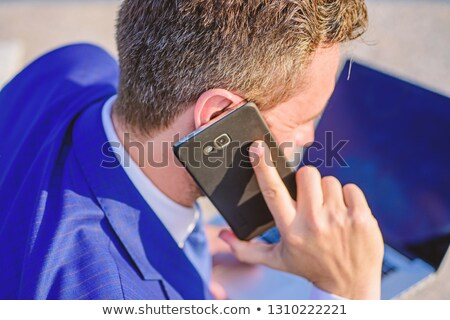phone: (175, 106, 301, 237)
